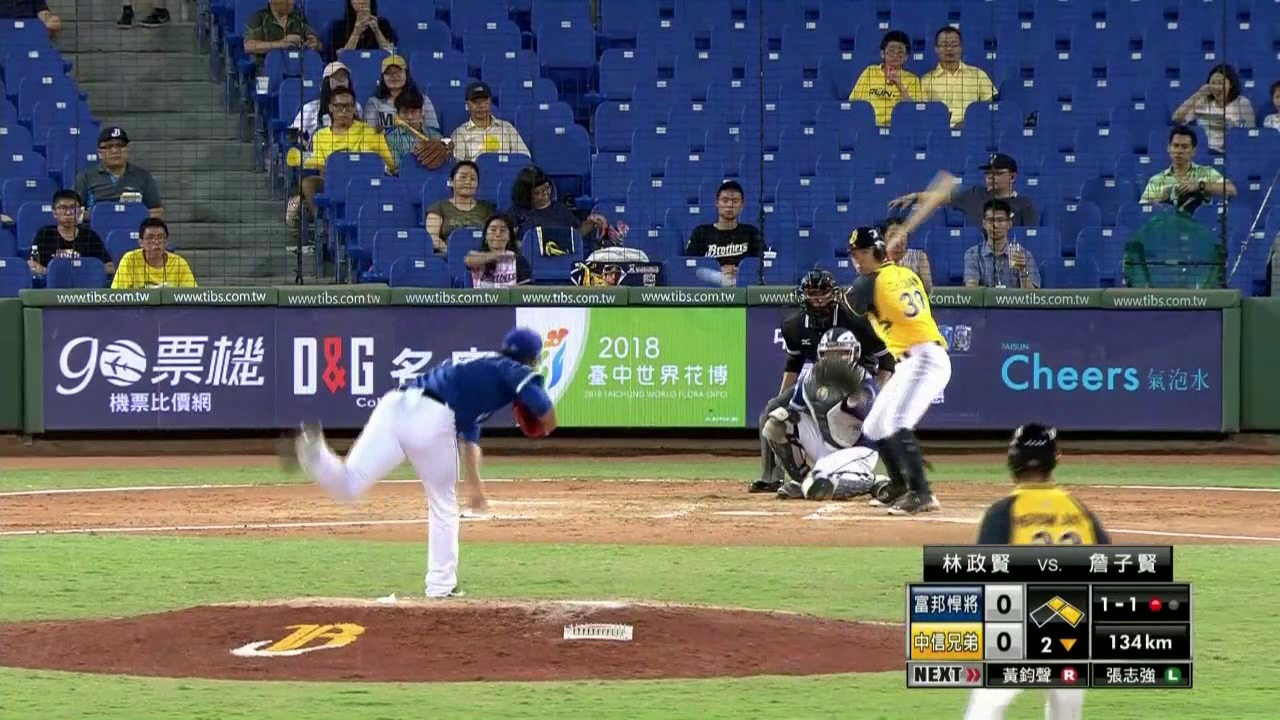ball: (708, 269, 723, 285)
base: (1030, 588, 1086, 627)
bat: (883, 166, 963, 250)
out: (1141, 587, 1189, 620)
score1: (986, 587, 1021, 618)
score2: (986, 625, 1020, 656)
session: (1032, 628, 1084, 660)
speed: (1094, 628, 1188, 658)
strikeball: (1092, 588, 1140, 623)
